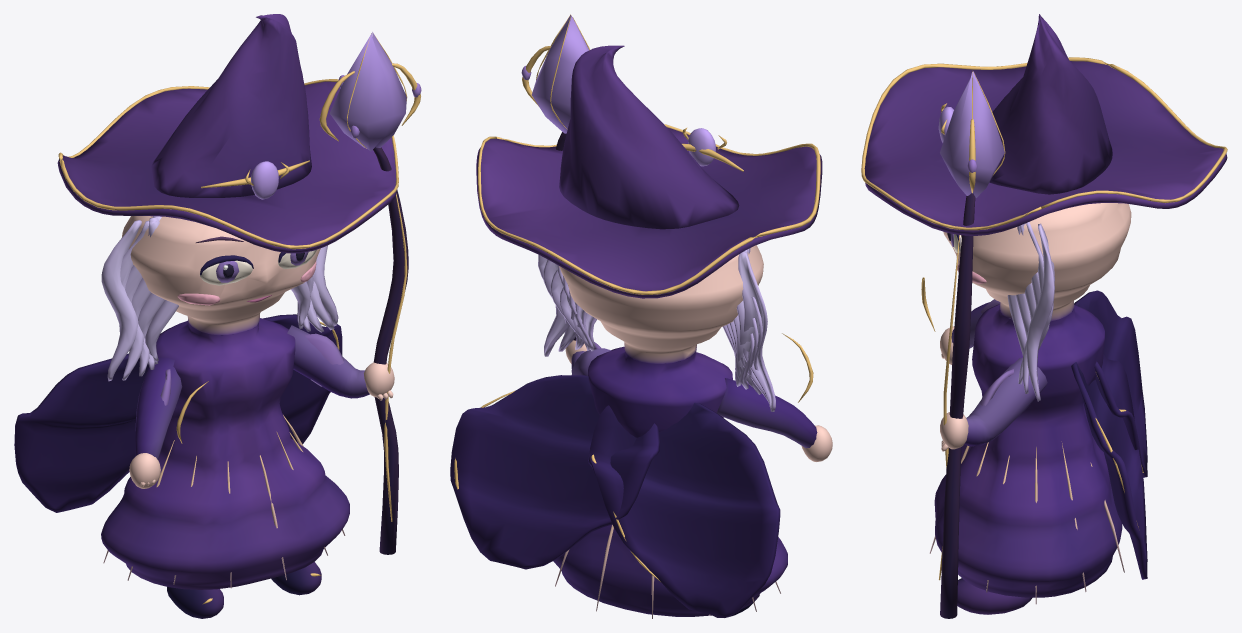
The picture shows the model from 3 angles, left to right: view 1: azimuth 30°, elevation 25°; view 2: azimuth 150°, elevation 25°; view 3: azimuth 270°, elevation 25°; orthographic projection. The views are drawn at different scales.
Parts seen in each view (by area): view 1: NightMarketPlayable_0064; view 2: NightMarketPlayable_0064; view 3: NightMarketPlayable_0064.
Boxes of the visible parts, box(x1,y1,x2,y2) form: NightMarketPlayable_0064: box(14, 14, 421, 618); NightMarketPlayable_0064: box(450, 14, 832, 618); NightMarketPlayable_0064: box(861, 14, 1227, 618).
Size of the model in its own units: 2.71 by 4.38 by 2.47.
